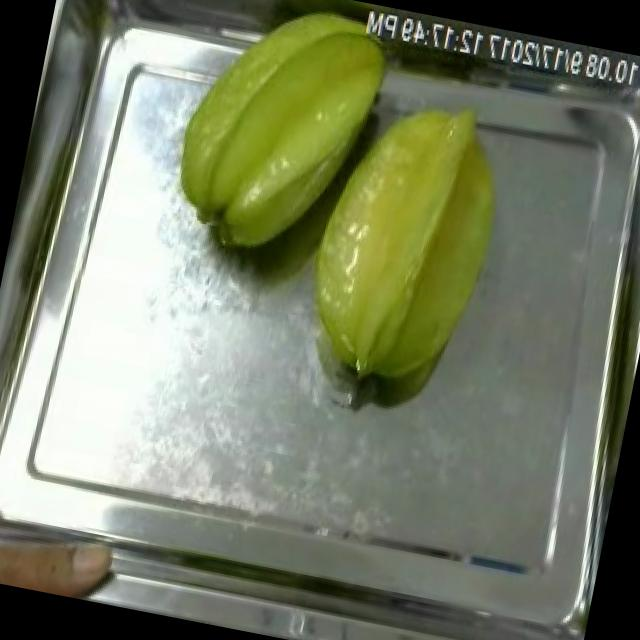fruit: (275, 72, 536, 414), (154, 0, 409, 287), (0, 504, 125, 605)
